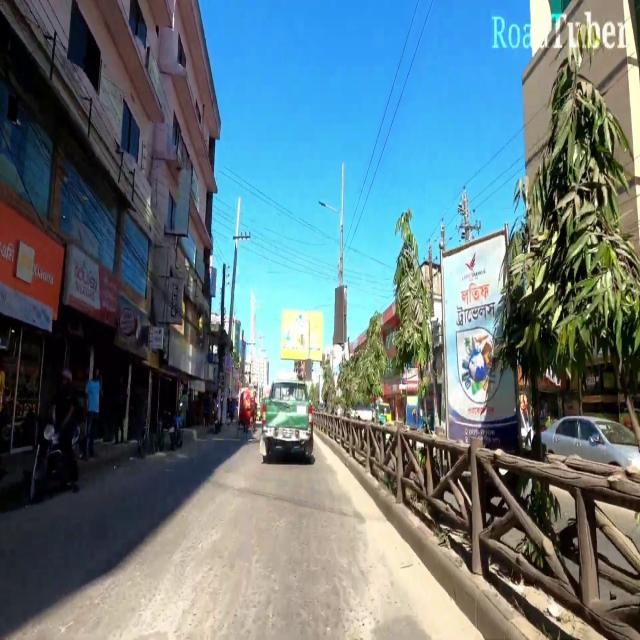silver: (537, 409, 640, 476)
